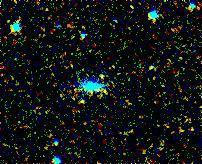star: (87, 62, 117, 92)
